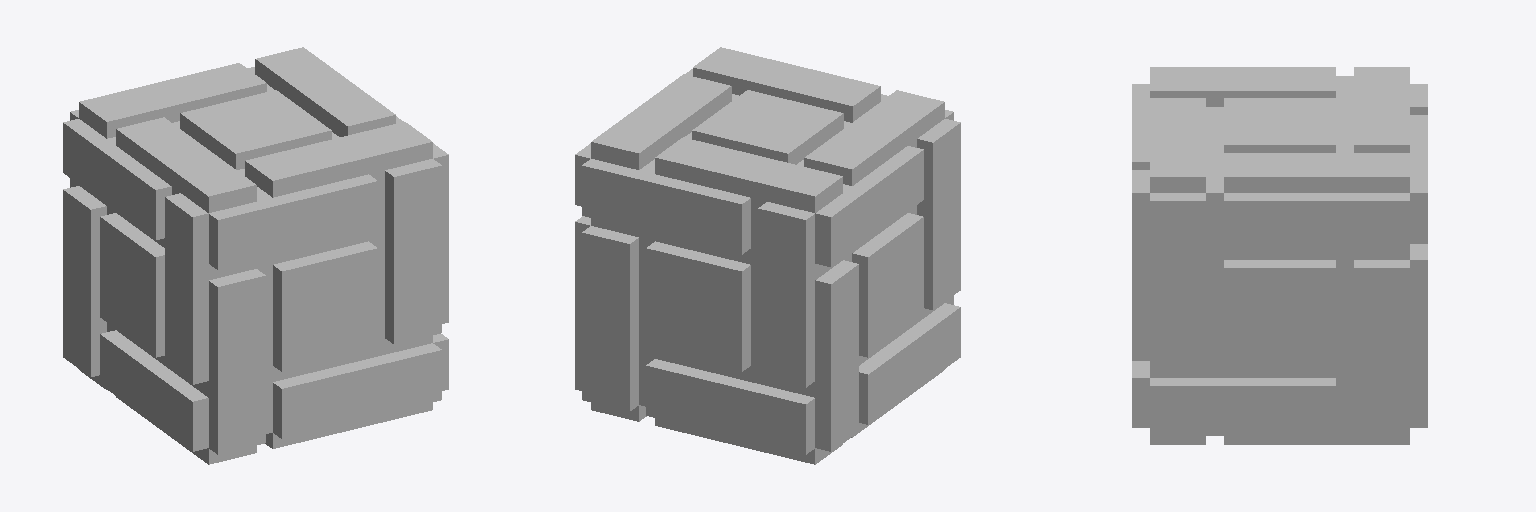
File: Wall.obj
3 renders of one model, left to right at view 1: azimuth 30°, elevation 25°; view 2: azimuth 150°, elevation 25°; view 3: azimuth 270°, elevation 25°, orthographic.
Visible parts, largest first — view 1: BlackTop; view 2: BlackTop; view 3: BlackTop.
Boxes of the visible parts, <box> form: BlackTop: <box>63,47,448,464</box>; BlackTop: <box>575,47,960,464</box>; BlackTop: <box>1132,67,1427,444</box>.
Size of the model in its own units: 1.6 by 1.6 by 1.6.